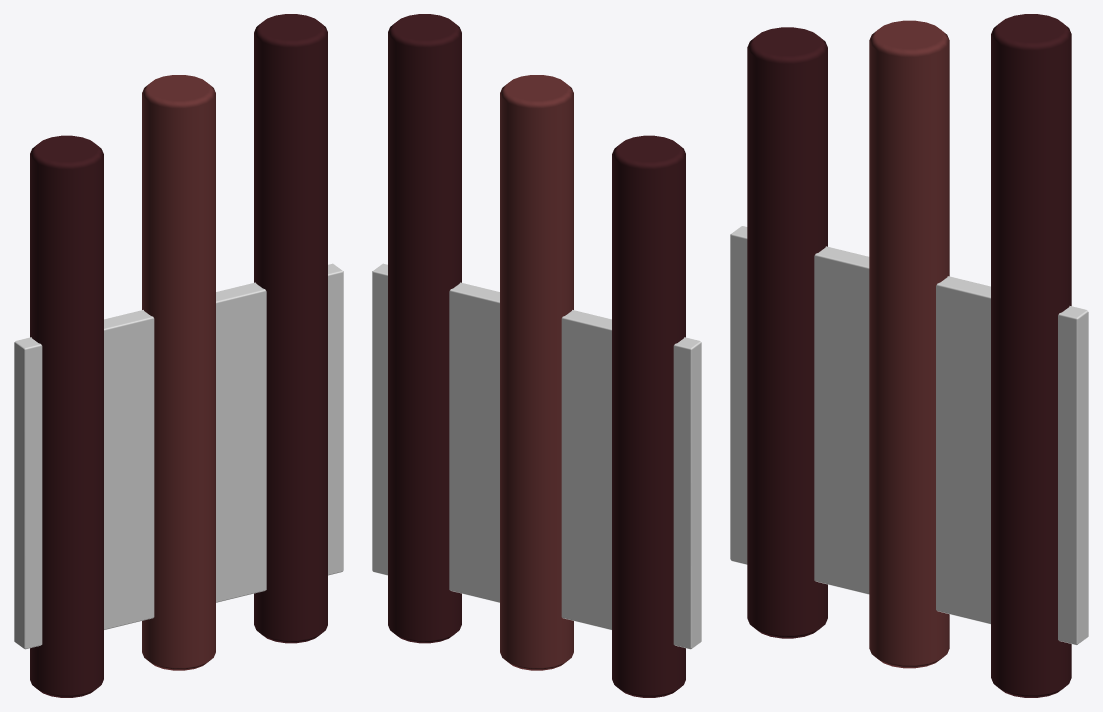
File: living-cave-wall-boundary.e150bef5.glb
The picture shows the model from 3 angles, left to right: view 1: azimuth 30°, elevation 25°; view 2: azimuth 150°, elevation 25°; view 3: azimuth 330°, elevation 25°; orthographic projection. The views are drawn at different scales.
Parts seen in each view (by area): view 1: body; view 2: body; view 3: body.
Part boxes in pixels (box(x1,y1,x2,y2)): body: box(14, 14, 343, 697); body: box(372, 14, 701, 697); body: box(730, 14, 1088, 697).
Size of the model in its own units: 1 by 1.8 by 0.2.
